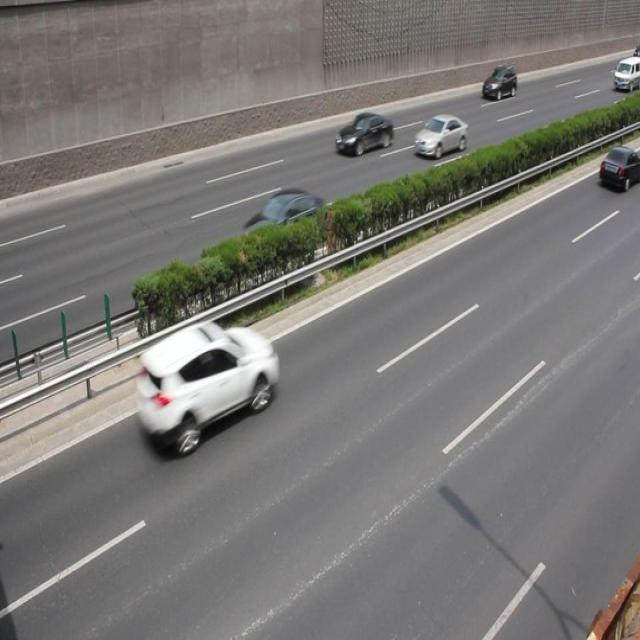car: (136, 320, 278, 450), (240, 186, 330, 260), (411, 110, 468, 160), (335, 111, 392, 156), (598, 144, 640, 187), (480, 64, 517, 102)
